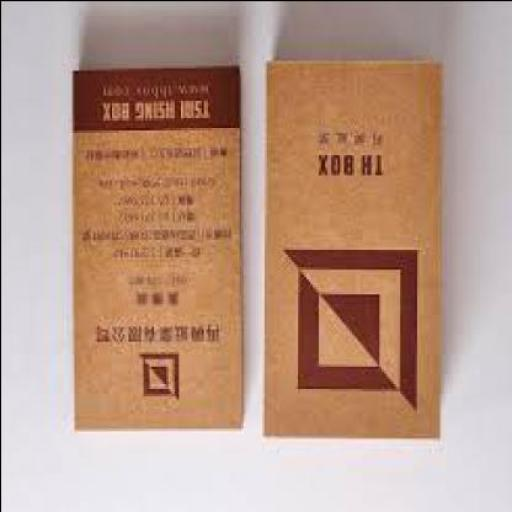cardboard: (267, 60, 446, 442), (74, 67, 244, 433)
